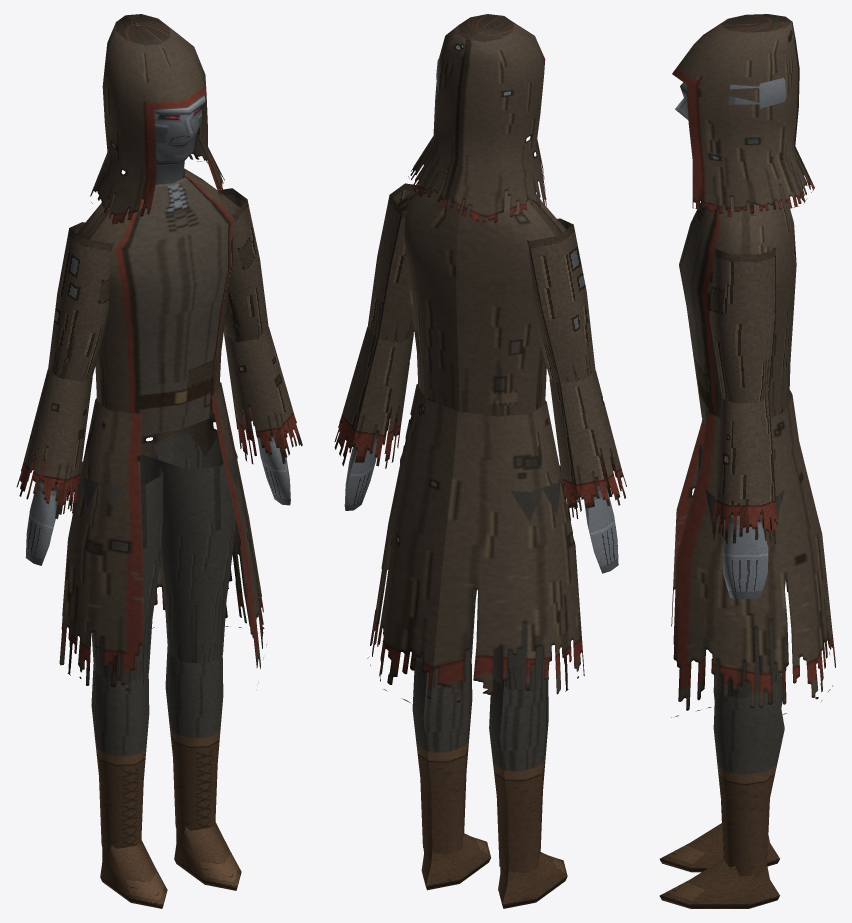
Rendered from wanderer_ragged_umber.obj.
The picture shows the model from 3 angles, left to right: view 1: azimuth 30°, elevation 25°; view 2: azimuth 150°, elevation 25°; view 3: azimuth 270°, elevation 25°; orthographic projection. The views are drawn at different scales.
Visible parts, largest first — view 1: Chest, Groin, Upper_Leg_L, Hood, Knee_Ankle_L, Knee_Ankle_R, Upper_Arm_R, Forearm_R, Forearm_L, Upper_Leg_R, Upper_Arm_L, Foot_L (+4 smaller); view 2: Groin, Chest, Hood, Knee_Ankle_R, Knee_Ankle_L, Upper_Arm_R, Forearm_R, Forearm_L, Upper_Arm_L, Upper_Leg_R, Foot_R, Foot_L (+2 smaller); view 3: Groin, Hood, Chest, Knee_Ankle_L, Upper_Arm_L, Forearm_L, Foot_L, Hand_L, Foot_R, Upper_Leg_L, Head.
Part boxes in pixels (left/top/right/bottom): Chest: left=76, top=168, right=239, bottom=434; Groin: left=59, top=382, right=266, bottom=691; Upper_Leg_L: left=153, top=433, right=237, bottom=663; Hood: left=90, top=14, right=224, bottom=224; Knee_Ankle_L: left=165, top=646, right=223, bottom=834; Knee_Ankle_R: left=91, top=664, right=149, bottom=852; Upper_Arm_R: left=48, top=222, right=113, bottom=381; Forearm_R: left=16, top=369, right=92, bottom=519; Forearm_L: left=224, top=327, right=302, bottom=464; Upper_Leg_R: left=80, top=454, right=163, bottom=681; Upper_Arm_L: left=219, top=188, right=268, bottom=342; Foot_L: left=174, top=821, right=241, bottom=890; Groin: left=367, top=383, right=584, bottom=706; Chest: left=397, top=170, right=565, bottom=415; Hood: left=408, top=14, right=546, bottom=224; Knee_Ankle_R: left=489, top=679, right=548, bottom=872; Knee_Ankle_L: left=412, top=659, right=472, bottom=853; Upper_Arm_R: left=527, top=218, right=595, bottom=383; Forearm_R: left=549, top=371, right=626, bottom=522; Forearm_L: left=334, top=327, right=413, bottom=468; Upper_Arm_L: left=367, top=183, right=417, bottom=342; Upper_Leg_R: left=493, top=457, right=561, bottom=691; Foot_R: left=498, top=852, right=567, bottom=908; Foot_L: left=421, top=833, right=490, bottom=890; Groin: left=671, top=390, right=835, bottom=717; Hood: left=672, top=14, right=814, bottom=217; Chest: left=679, top=185, right=796, bottom=434; Knee_Ankle_L: left=713, top=681, right=784, bottom=876; Upper_Arm_L: left=709, top=248, right=775, bottom=402; Forearm_L: left=712, top=398, right=777, bottom=543; Foot_L: left=659, top=859, right=779, bottom=908; Hand_L: left=722, top=516, right=768, bottom=598; Foot_R: left=659, top=823, right=779, bottom=872; Upper_Leg_L: left=705, top=489, right=785, bottom=698; Head: left=675, top=77, right=786, bottom=159.
Size of the model in its own units: 0.6266 by 1.84 by 0.348.
Materials: 10 (10 with a texture image).
